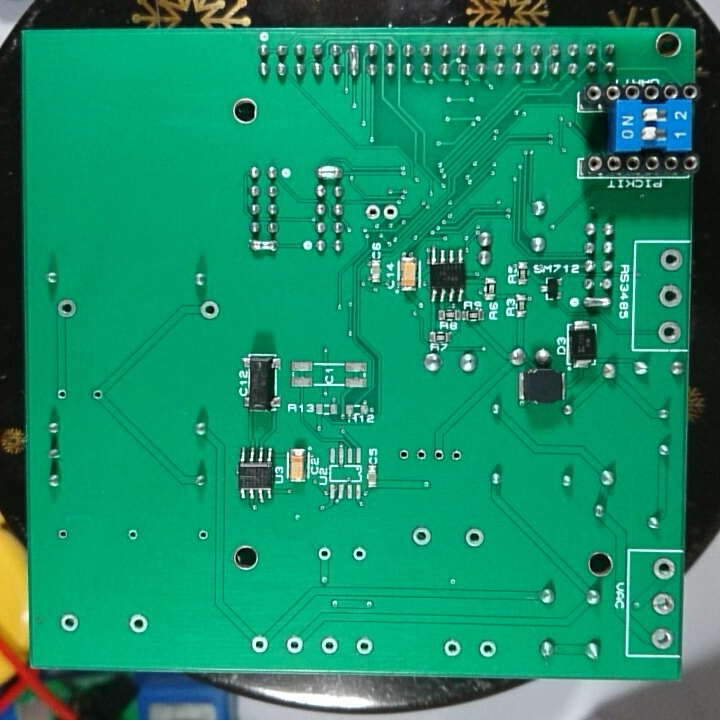F: (656, 280, 687, 313), (655, 316, 685, 346), (649, 589, 678, 620), (647, 626, 679, 652), (656, 246, 686, 273), (124, 611, 150, 638), (53, 296, 79, 322), (461, 525, 487, 550), (651, 555, 678, 579), (353, 635, 378, 659), (196, 298, 222, 321), (57, 612, 82, 635), (284, 632, 306, 658), (248, 632, 271, 656), (314, 543, 335, 569), (408, 524, 431, 547), (476, 638, 500, 660), (441, 637, 464, 659), (351, 543, 370, 567), (362, 201, 382, 223), (381, 201, 401, 223), (320, 635, 342, 655), (447, 446, 467, 466), (413, 446, 430, 466), (395, 446, 412, 465), (193, 527, 213, 543), (54, 386, 71, 403), (430, 446, 446, 464), (55, 526, 70, 544), (125, 527, 140, 543), (90, 387, 104, 403)
P: (581, 293, 616, 312), (314, 163, 345, 183), (245, 237, 279, 255), (347, 42, 361, 79)
